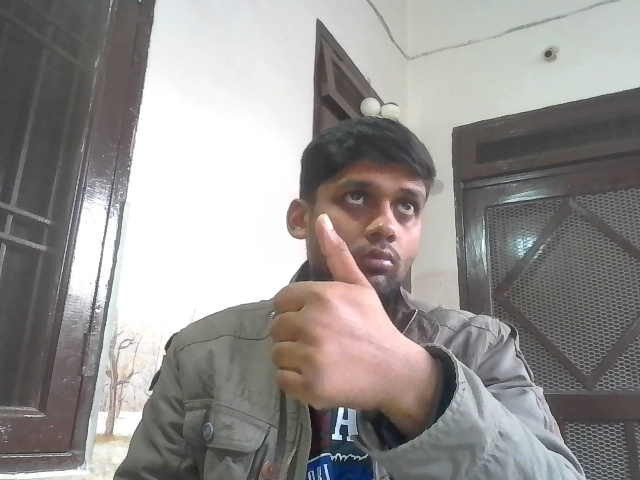BestOfLuck: (270, 214, 397, 417)
